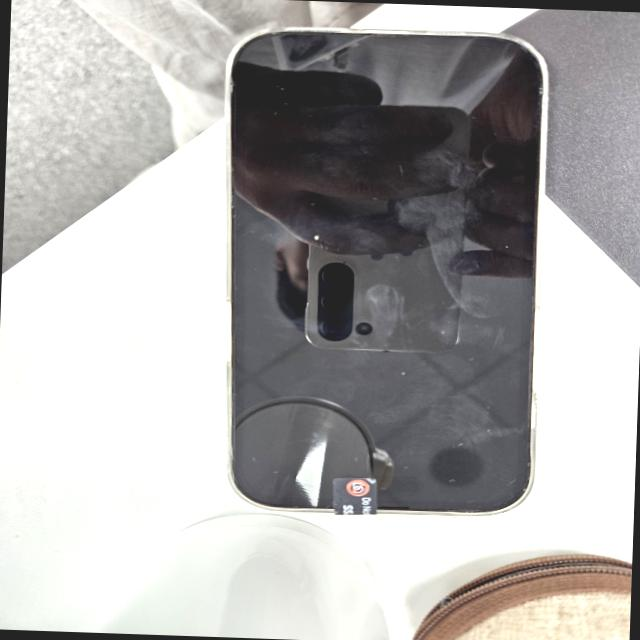phone: (208, 21, 554, 522)
sticker: (332, 475, 378, 515)
